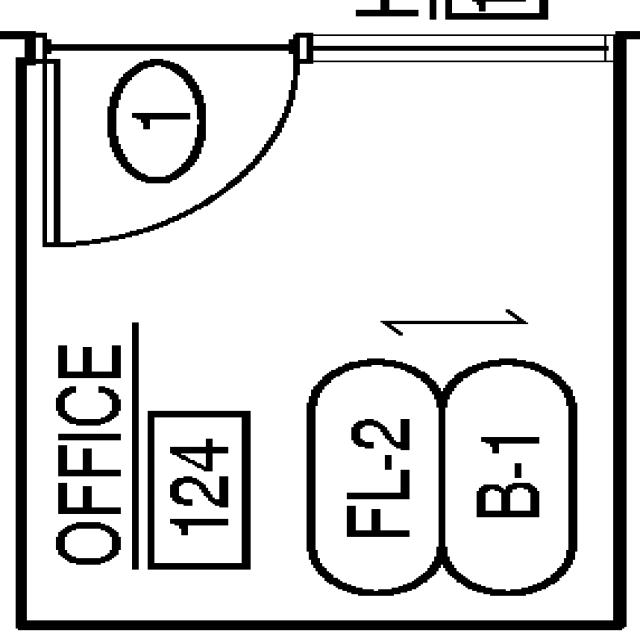Doors: (33, 32, 311, 263)
